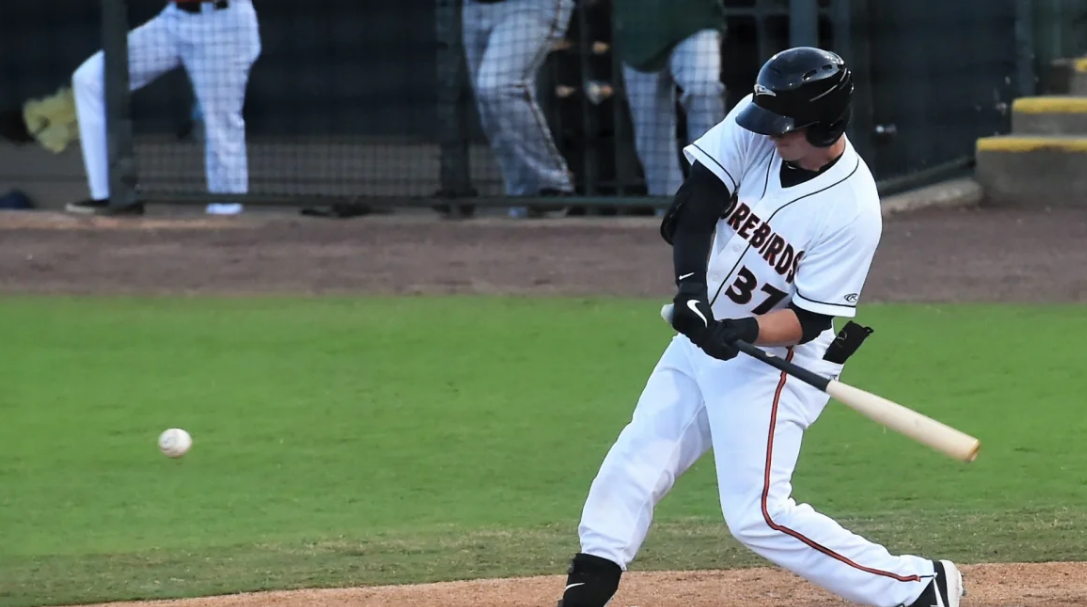ball: (154, 427, 192, 458)
